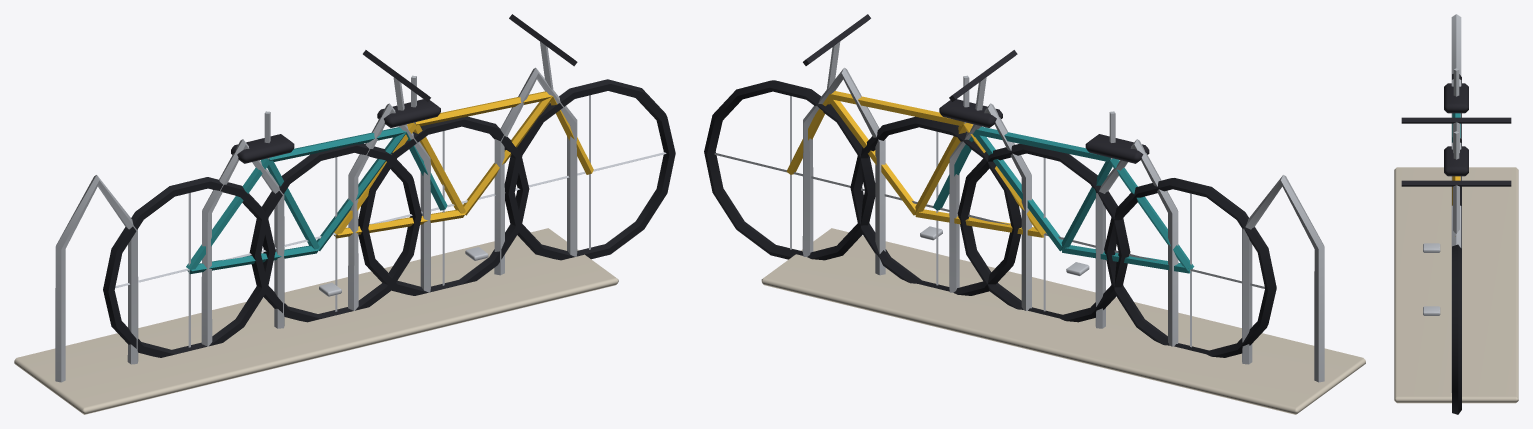
File: welt_fahrraeder.glb
3 renders of one model, left to right at view 1: azimuth 30°, elevation 25°; view 2: azimuth 150°, elevation 25°; view 3: azimuth 270°, elevation 25°, orthographic. The views are drawn at different scales.
Parts seen in each view (by area): view 1: welt_fahrraeder; view 2: welt_fahrraeder; view 3: welt_fahrraeder.
Boxes of the visible parts, <box> form: welt_fahrraeder: <box>14,14,675,414</box>; welt_fahrraeder: <box>704,14,1365,414</box>; welt_fahrraeder: <box>1394,14,1518,414</box>.
Bounding box in the file's own units: 2.57 × 0.9161 × 0.5.
